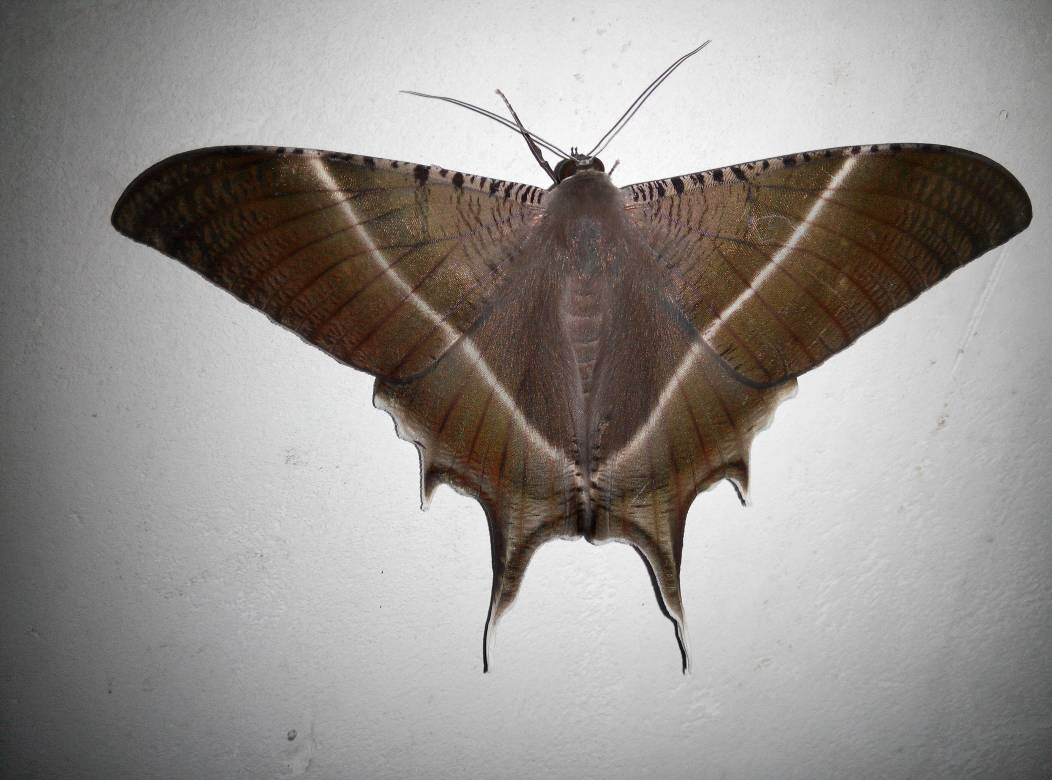feie: (125, 72, 1028, 643)
